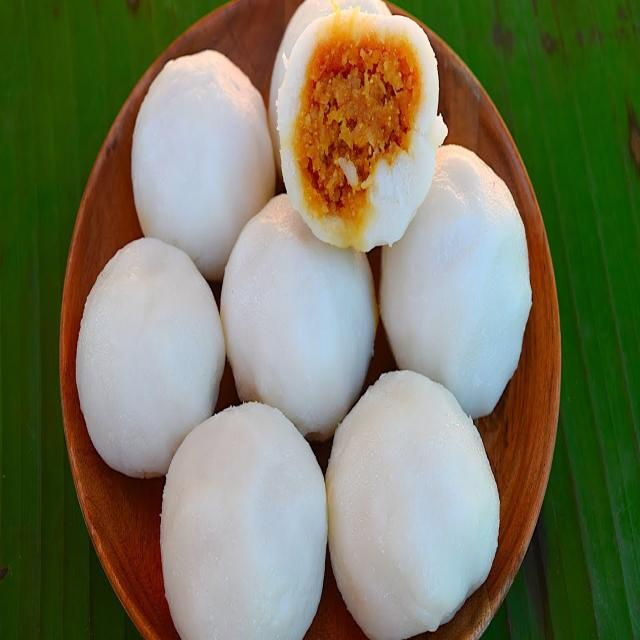poorna kolukattai: (82, 5, 546, 640)
